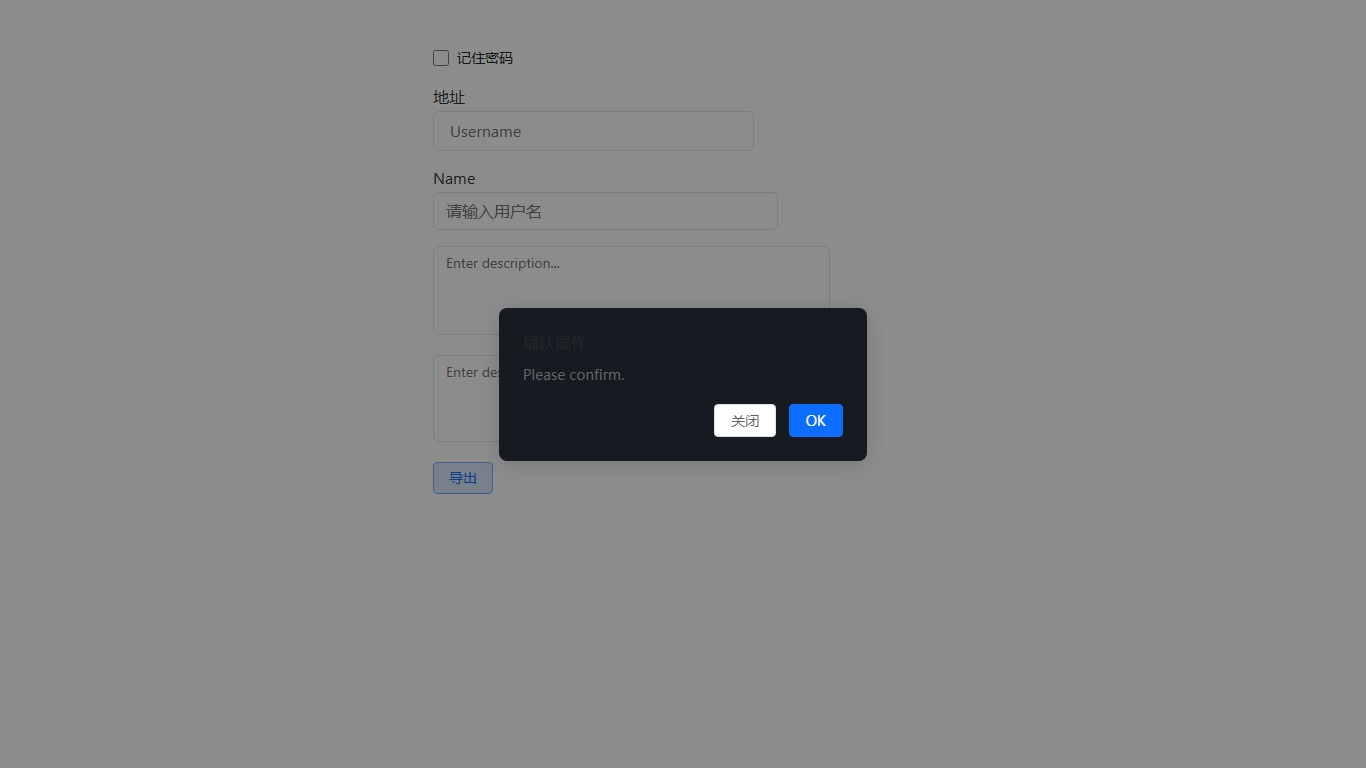button: (714, 403, 776, 437), (433, 462, 493, 494), (789, 403, 843, 437)
checkbox: (433, 50, 449, 66)
icon: (457, 48, 513, 67)
input: (433, 192, 778, 230), (433, 111, 754, 150)
modal: (0, 0, 1366, 768)
radio: (433, 48, 513, 67)
textarea: (433, 246, 830, 334), (433, 354, 707, 441)
